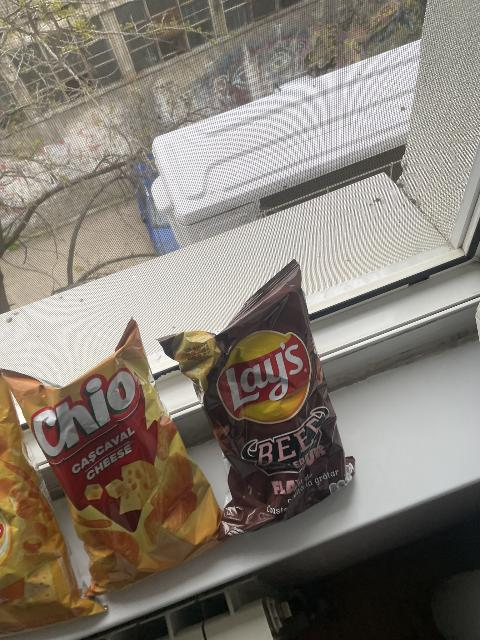Chio Cascaval 125g: (0, 319, 229, 608)
Chio Hula Hoops Cheese 70g: (0, 368, 109, 637)
Lays Beef Grilled Ribs 125g: (168, 285, 349, 530)
